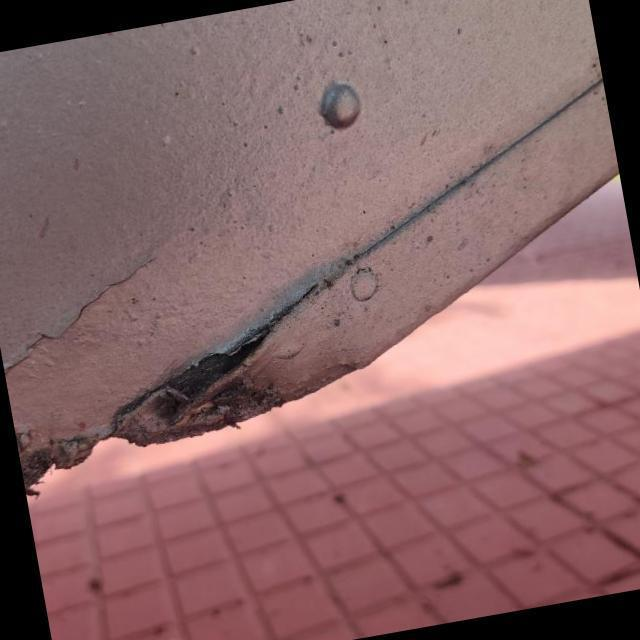Rupture: (111, 296, 298, 449)
